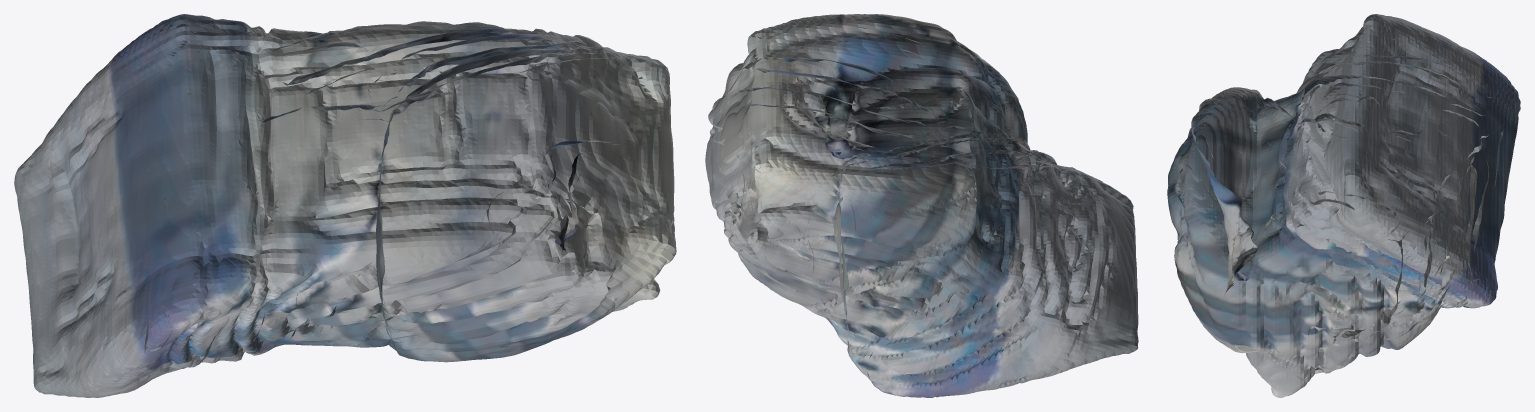
3 renders of one model, left to right at view 1: azimuth 30°, elevation 25°; view 2: azimuth 150°, elevation 25°; view 3: azimuth 270°, elevation 25°, orthographic. The views are drawn at different scales.
Visible parts, largest first — view 1: world; view 2: world; view 3: world.
Part boxes in pixels (<box>): world: <box>14,14,676,397</box>; world: <box>705,14,1138,397</box>; world: <box>1167,14,1520,397</box>.
Bounding box in the file's own units: 0.967 × 0.5264 × 0.6628.
